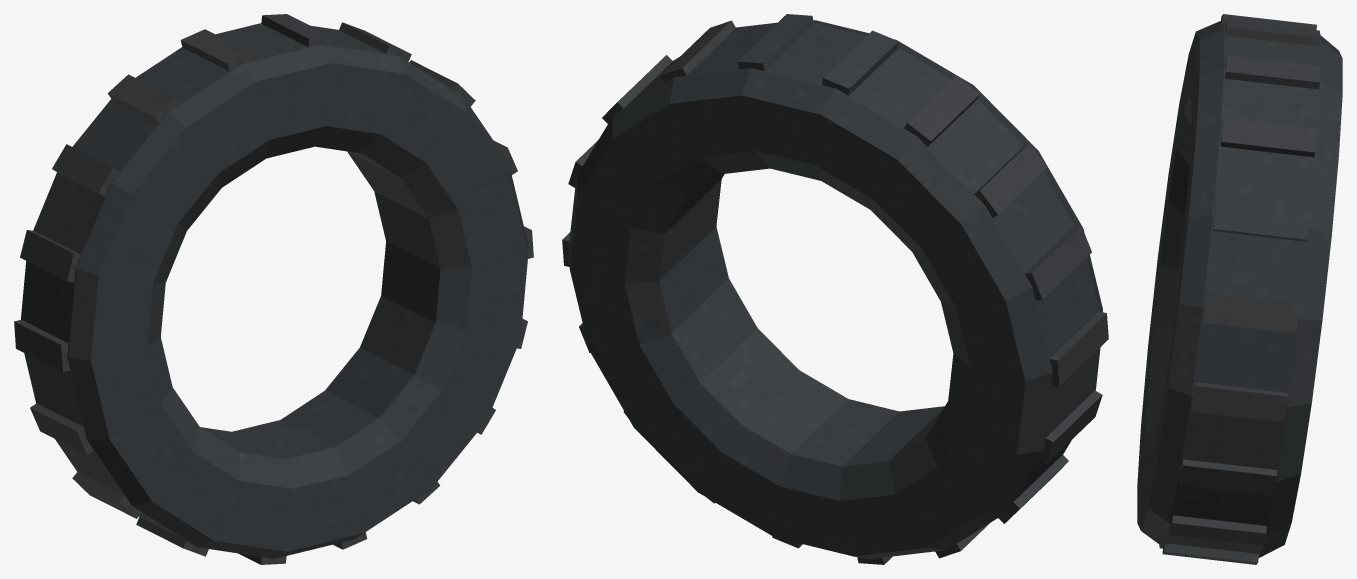
File: tire_medium.glb
The picture shows the model from 3 angles, left to right: view 1: azimuth 30°, elevation 25°; view 2: azimuth 150°, elevation 25°; view 3: azimuth 270°, elevation 25°; orthographic projection. The views are drawn at different scales.
Visible parts, largest first — view 1: block_wheel cross section, block_tread block (×10); view 2: block_wheel cross section, block_tread block (×10); view 3: block_wheel cross section, block_tread block (×10).
Boxes of the visible parts, x1,y1,x2,y2 form: block_wheel cross section: (21, 23, 528, 558); block_tread block (×10): (14, 14, 411, 556); block_wheel cross section: (568, 20, 1102, 559); block_tread block (×10): (602, 14, 1108, 523); block_wheel cross section: (1137, 21, 1342, 557); block_tread block (×10): (1162, 14, 1320, 564).
Bounding box in the file's own units: 0.4286 × 0.432 × 0.162.
Materials: 1 (1 with a texture image).
